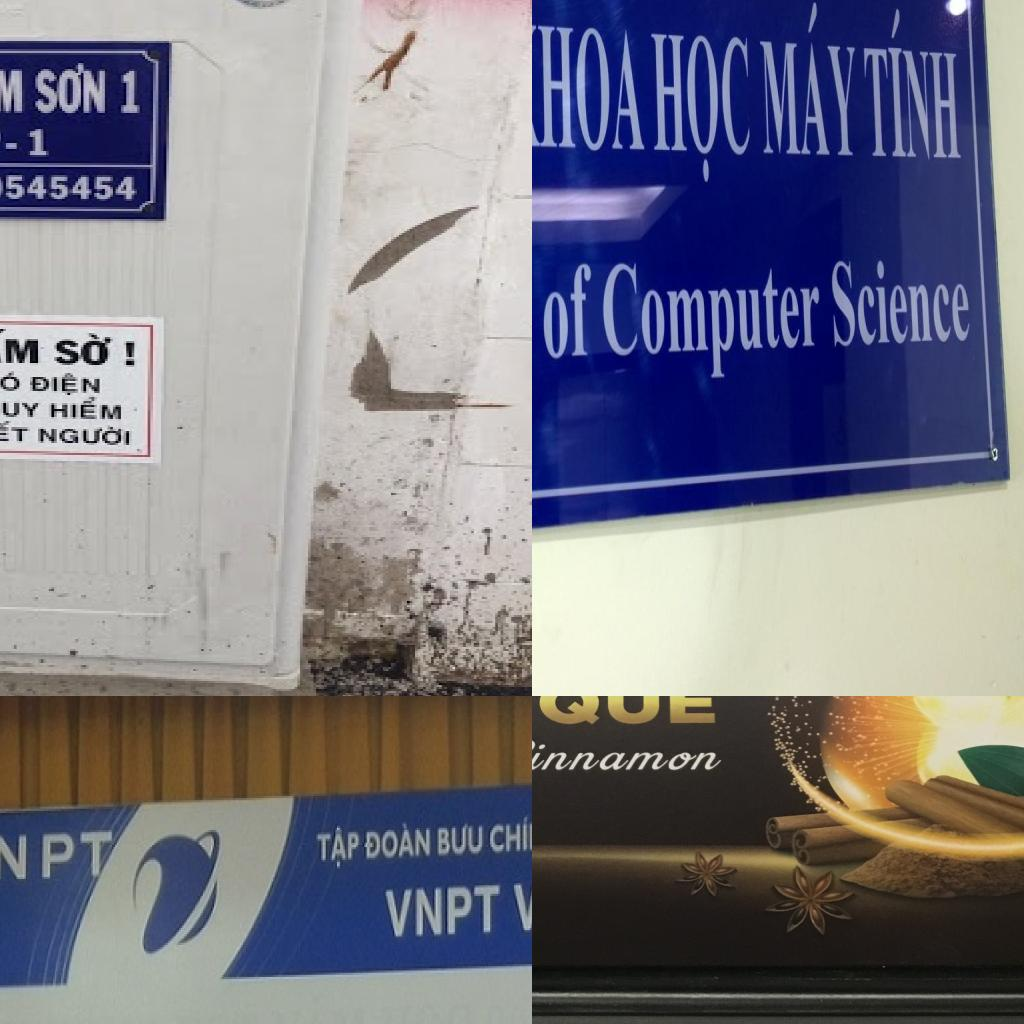text: (595, 253, 827, 397), (644, 24, 756, 192), (755, 0, 863, 170), (860, 8, 966, 170), (532, 16, 649, 157), (532, 732, 724, 778), (382, 881, 504, 943), (538, 253, 598, 371), (0, 827, 116, 887), (535, 696, 722, 728), (0, 173, 139, 203), (32, 63, 108, 117), (362, 819, 432, 864), (48, 329, 116, 367), (314, 824, 362, 872), (436, 821, 487, 862), (48, 395, 124, 421), (488, 813, 532, 857), (30, 373, 102, 397), (509, 864, 532, 936), (0, 329, 40, 367), (0, 129, 48, 157), (0, 69, 24, 115), (121, 69, 142, 115), (0, 399, 43, 419), (0, 419, 32, 443), (0, 369, 22, 393), (124, 341, 137, 369)
